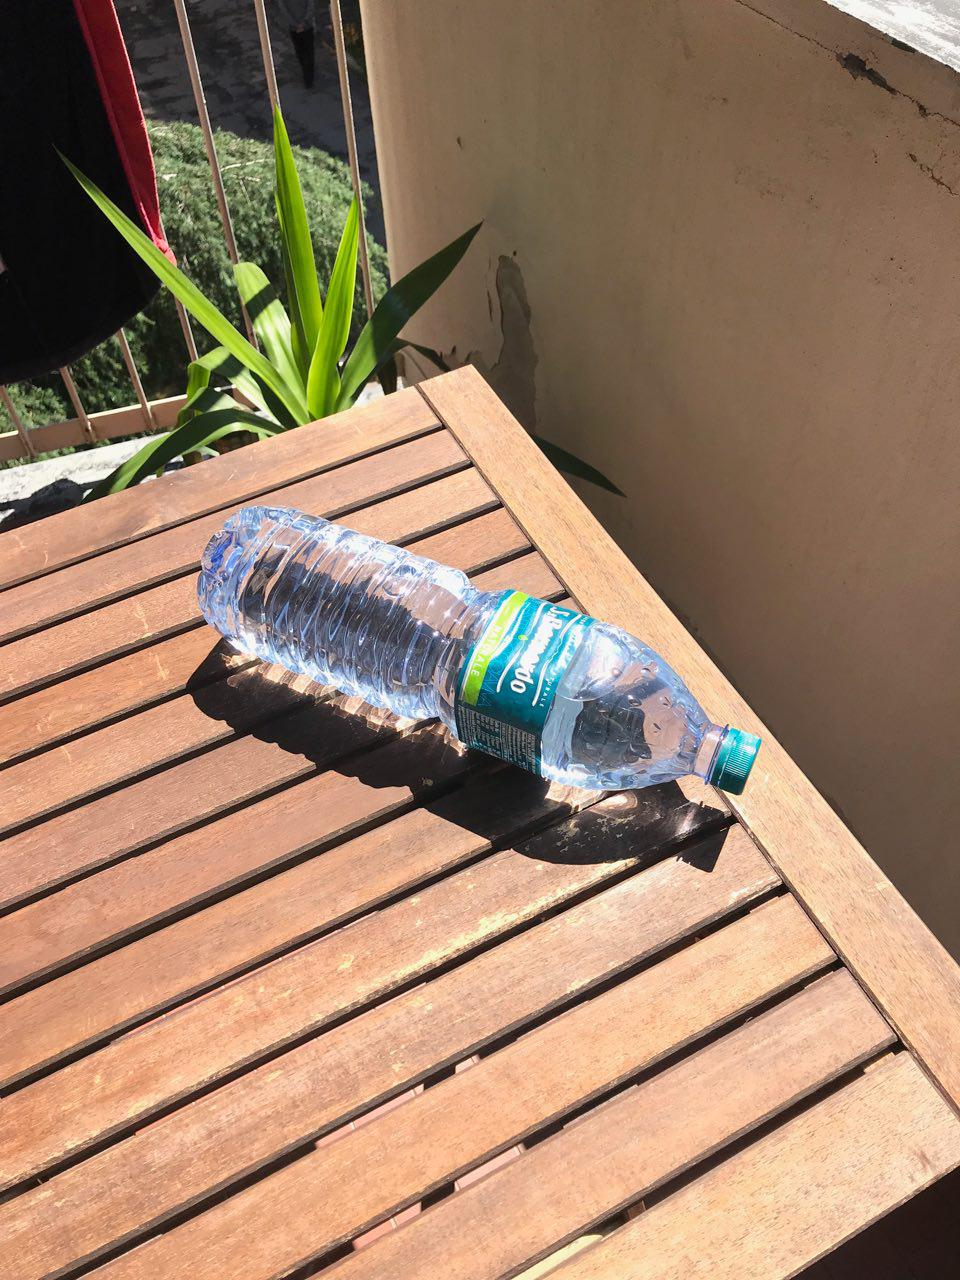san_bernardo: (196, 503, 763, 796)
